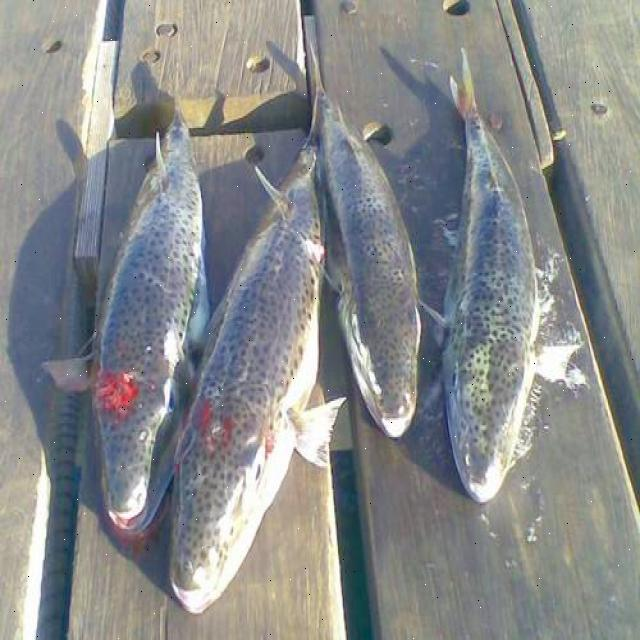Balik: (171, 146, 343, 612), (91, 113, 208, 534), (310, 48, 421, 436), (443, 52, 538, 501)
